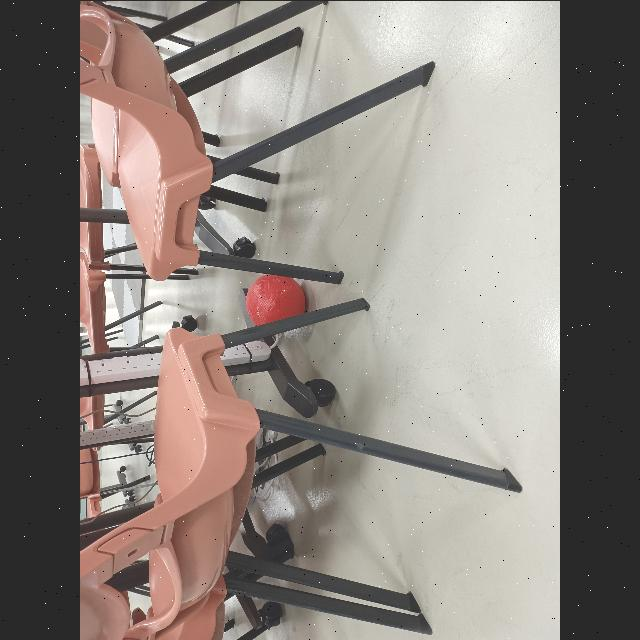R: (246, 273, 308, 329)
